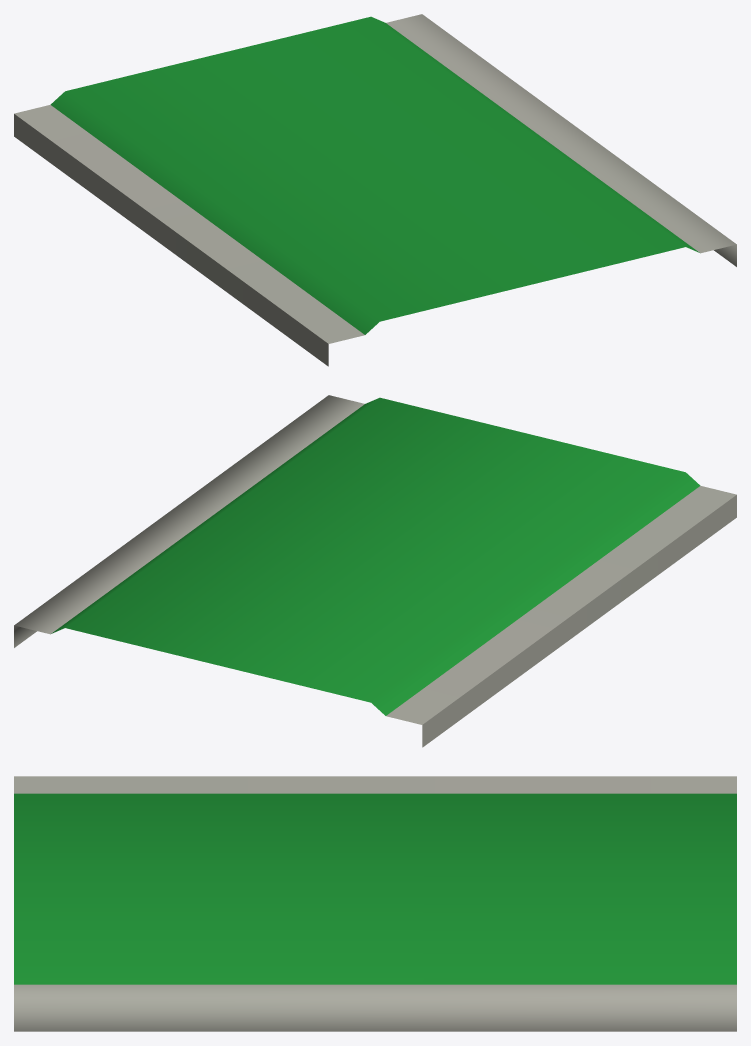
The model's file is RoadMid_1_A.glb.
3 views of the same model, one above another, from view 1: azimuth 30°, elevation 25°; view 2: azimuth 150°, elevation 25°; view 3: azimuth 270°, elevation 25° (orthographic). The views are drawn at different scales.
Parts seen in each view (by area): view 1: RoadMid_1_A; view 2: RoadMid_1_A; view 3: RoadMid_1_A.
Boxes of the visible parts, left/top/right/bottom form: RoadMid_1_A: left=14, top=14, right=736, bottom=366; RoadMid_1_A: left=14, top=395, right=736, bottom=747; RoadMid_1_A: left=14, top=776, right=736, bottom=1031.
Bounding box in the file's own units: 2.99 × 0.2296 × 4.
1 material, 1 textured.
